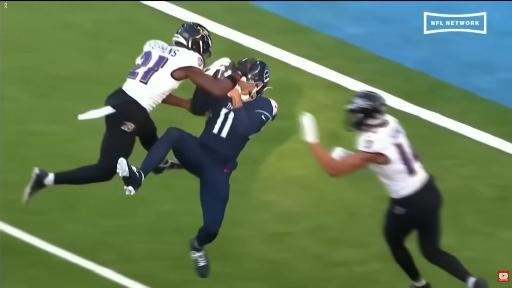Helmet: (346, 91, 386, 131), (173, 23, 211, 59), (242, 60, 269, 101)
Jersey: (357, 115, 429, 198), (123, 40, 203, 111), (200, 96, 277, 160)
Player: (23, 23, 254, 202), (300, 91, 487, 287), (118, 60, 277, 277)
